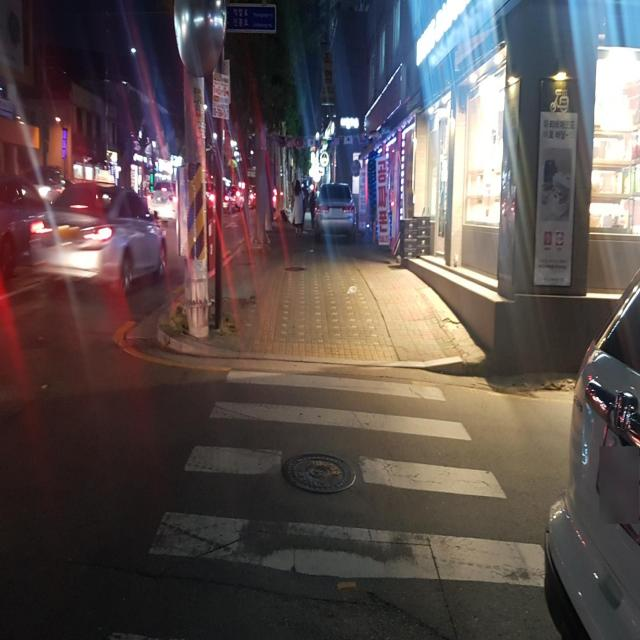횡단보도: (102, 364, 548, 592)
